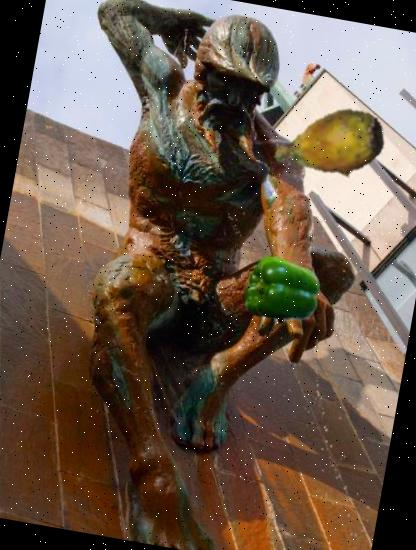Cactus: (262, 79, 395, 212)
Pepper: (236, 245, 326, 335)
